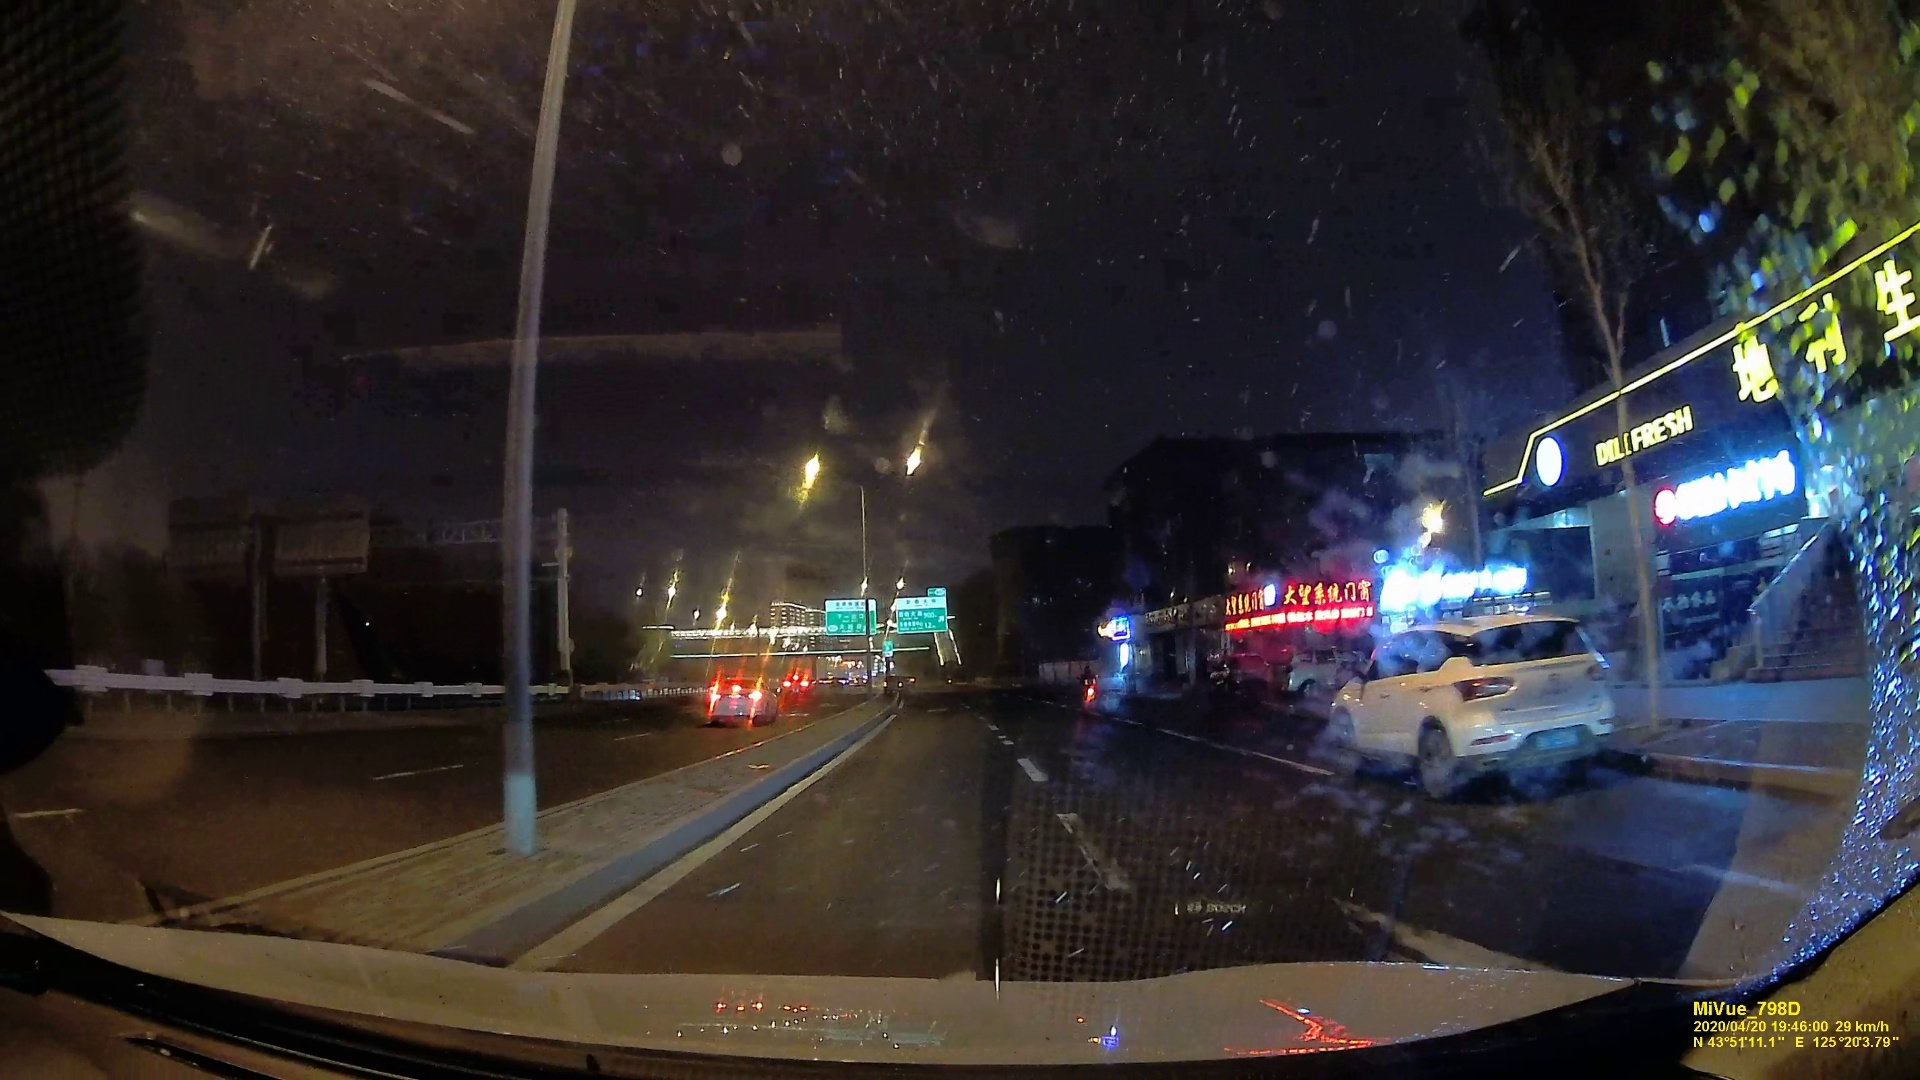person: (1080, 664, 1097, 687)
traffic_sign: (895, 599, 945, 631), (826, 598, 871, 633)
vehicle: (1318, 620, 1626, 800), (706, 676, 780, 726)
